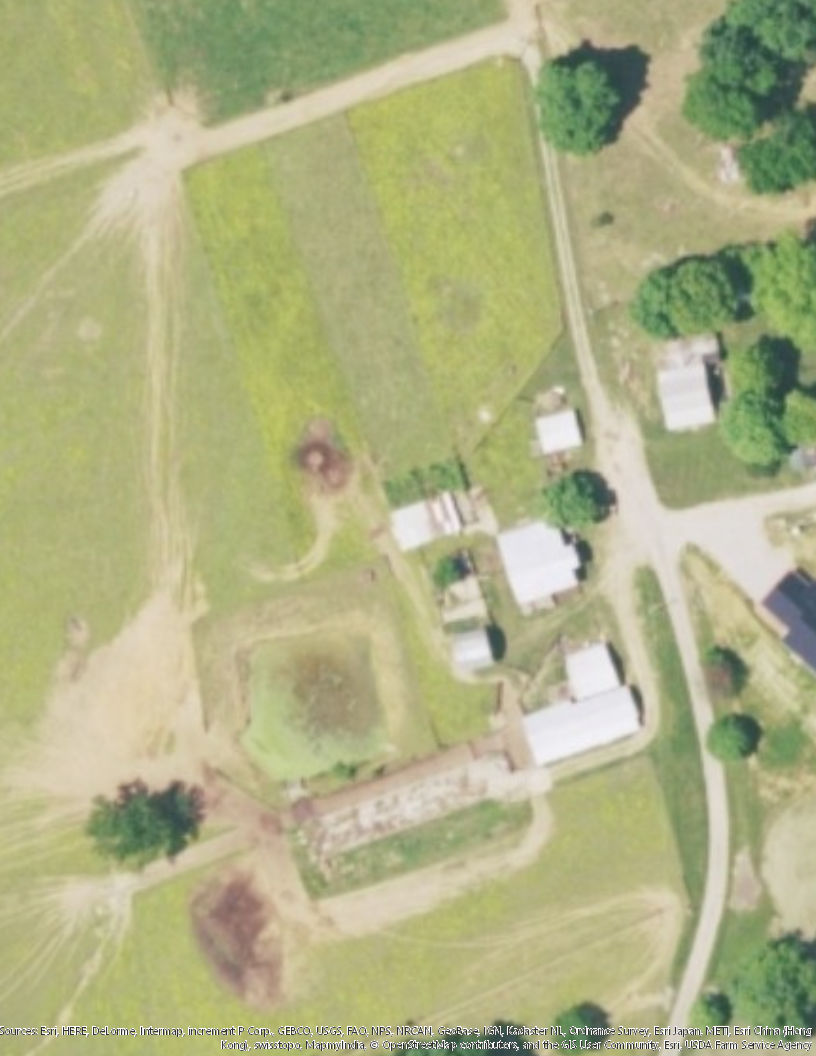cafo: (291, 731, 518, 862), (514, 643, 641, 774)
